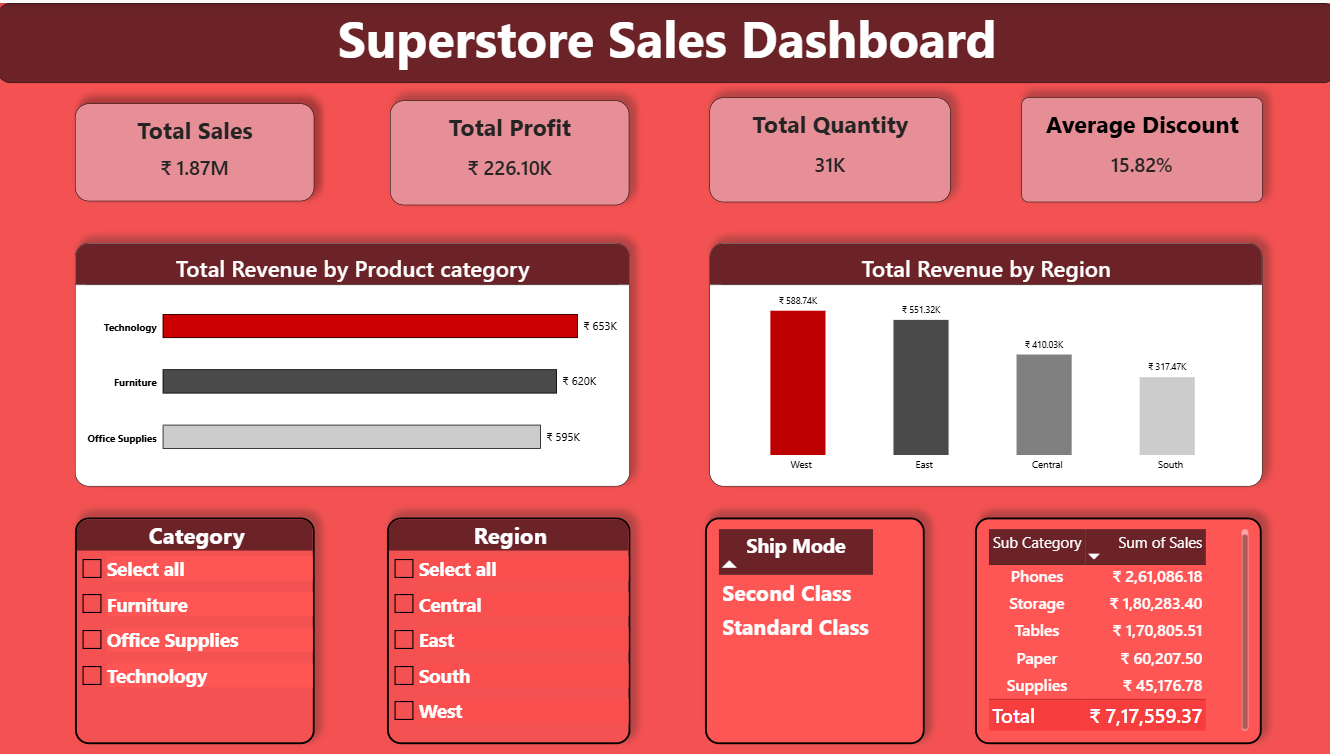

What the dashboard file says about the page in this screenshot:
{"tool":"powerbi","page":{"name":"Page 1","canvas":[1920,1080],"ordinal":0},"visuals":[{"type":"card","title":"Total Sales","fields":{"Values":["Sum(Sample - Superstore.Sales)"]},"box":[112.5,144.4,342.5,140],"z":0},{"type":"card","title":"Total Profit","fields":{"Values":["Sum(Sample - Superstore.Profit)"]},"box":[562.5,140,342.5,150],"z":1000},{"type":"card","title":"Total Quantity","fields":{"Values":["Sum(Sample - Superstore.Quantity)"]},"box":[1020,135,345,150],"z":2000},{"type":"card","title":"Average Discount","fields":{"Values":["Avg(Sample - Superstore.Discount)"]},"box":[1467.5,135,345,150],"z":3000},{"type":"barChart","title":"Total Revenue by Product category","fields":{"Category":["Sample - Superstore.Category"],"Y":["Sum(Sample - Superstore.Sales)"]},"box":[112.1,343.6,794.5,348.3],"z":4000},{"type":"columnChart","title":"Total Revenue by Region","fields":{"Category":["Sample - Superstore.Region"],"Y":["Sum(Sample - Superstore.Sales)"]},"box":[1021.2,343.6,792.1,348.3],"z":5000},{"type":"slicer","title":"Category","fields":{"Values":["Sample - Superstore.Category"]},"box":[112.1,737.2,343.6,324.5],"z":6000},{"type":"slicer","title":"Region","fields":{"Values":["Sample - Superstore.Region"]},"box":[558.3,737.2,348.3,324.5],"z":7000},{"type":"tableEx","fields":{"Values":["Sample - Superstore.Ship Mode"]},"box":[1014,737.2,314.9,324.5],"z":8000},{"type":"tableEx","fields":{"Values":["Sample - Superstore.Sub Category","Sum(Sample - Superstore.Sales)"]},"box":[1400.5,737.2,410.4,324.5],"z":9000},{"type":"textbox","box":[0,0,1920.7,114.5],"z":10000}]}

Visuals, with their boxes in screenshot pixels (x1, y1, x2, y2), scaled from the page's 1920x1080 canvas onto the 1330x754 screenshot:
"Total Sales" card: 78,101,315,199
"Total Profit" card: 390,98,627,202
"Total Quantity" card: 707,94,946,199
"Average Discount" card: 1017,94,1256,199
"Total Revenue by Product category" barChart: 78,240,628,483
"Total Revenue by Region" columnChart: 707,240,1256,483
"Category" slicer: 78,515,316,741
"Region" slicer: 387,515,628,741
tableEx - Sample - Superstore.Ship Mode: 702,515,921,741
tableEx - Sample - Superstore.Sub Category x Sum(Sample - Superstore.Sales): 970,515,1254,741
textbox: 0,0,1329,80
